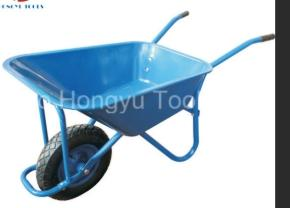BROUETTE: (3, 5, 279, 208)
